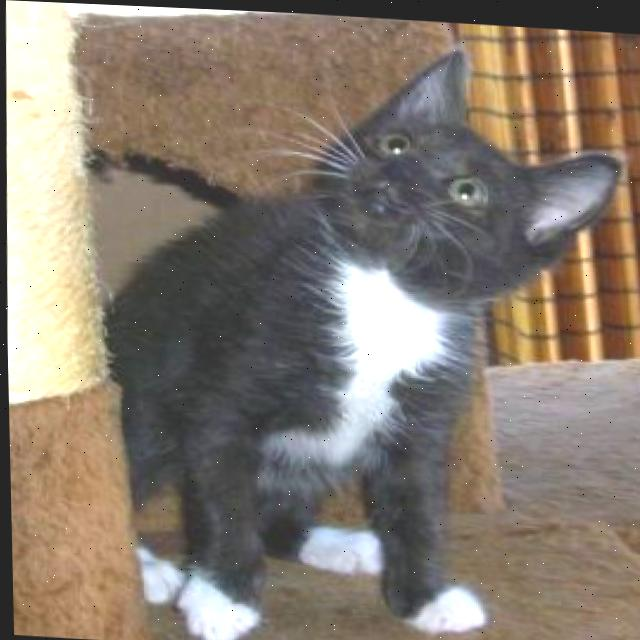Tuxedo: (77, 21, 633, 640)
